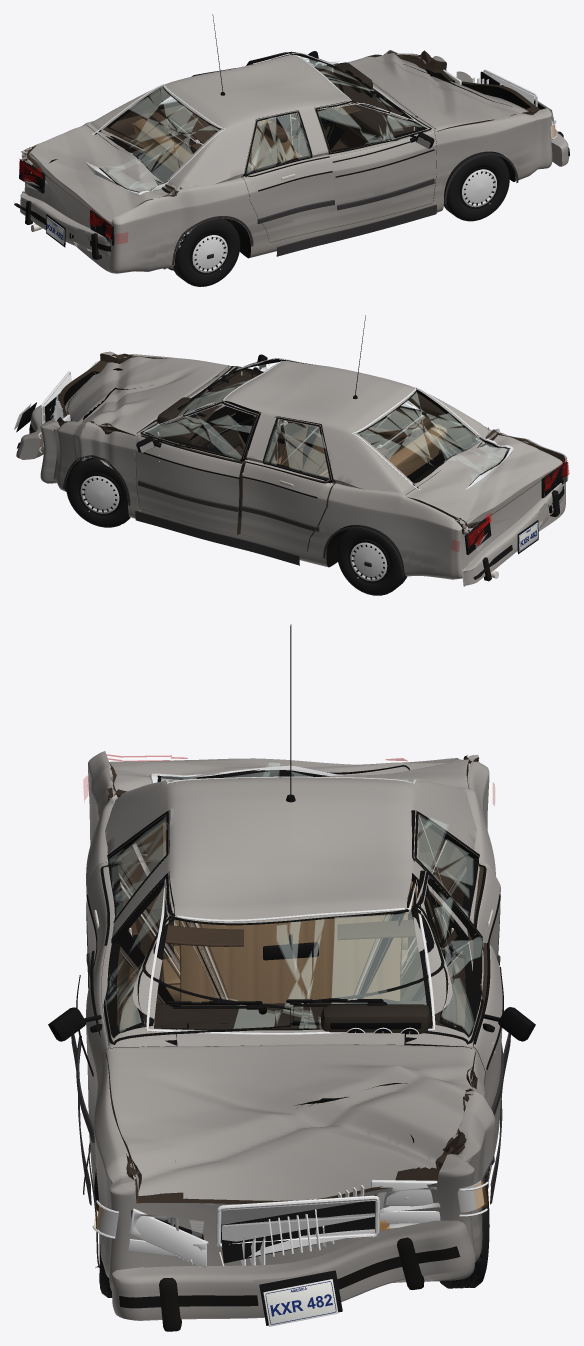
The model's file is sedan87_front_corner_d1.glb.
The picture shows the model from 3 angles, top to bottom: view 1: azimuth 30°, elevation 25°; view 2: azimuth 150°, elevation 25°; view 3: azimuth 270°, elevation 25°; orthographic projection. The views are drawn at different scales.
Parts seen in each view (by area): view 1: Body, Door_FR, Interior, Trunk, Hood, Glass, Door_RR, Wheel_FR_mesh, Wheel_RR_mesh, Trim, Ends, Glass_RR (+7 smaller); view 2: Body, Door_FL, Hood, Trunk, Interior, Door_RL, Glass, Wheel_RL_mesh, Wheel_FL_mesh, Trim, Ends, Bumper_R (+10 smaller); view 3: Body, Hood, Interior, Ends, Bumper_F, Glass, Door_FL, Door_FR, Trunk, Trim_FR, Door_RL, Trim_FL (+9 smaller).
Boxes of the visible parts, x1=… form: Body: x1=21, y1=50, x2=552, y2=273; Door_FR: x1=314, y1=101, x2=436, y2=227; Interior: x1=133, y1=62, x2=417, y2=172; Trunk: x1=26, y1=125, x2=170, y2=224; Hood: x1=346, y1=53, x2=528, y2=131; Glass: x1=85, y1=52, x2=415, y2=195; Door_RR: x1=241, y1=110, x2=335, y2=242; Wheel_FR_mesh: x1=443, y1=151, x2=509, y2=221; Wheel_RR_mesh: x1=173, y1=218, x2=240, y2=286; Trim: x1=172, y1=14, x2=518, y2=265; Ends: x1=19, y1=69, x2=557, y2=247; Glass_RR: x1=246, y1=112, x2=310, y2=173; Body: x1=40, y1=351, x2=566, y2=579; Door_FL: x1=135, y1=402, x2=260, y2=535; Hood: x1=65, y1=357, x2=228, y2=435; Trunk: x1=405, y1=432, x2=562, y2=526; Interior: x1=155, y1=373, x2=447, y2=477; Door_RL: x1=240, y1=416, x2=335, y2=551; Glass: x1=156, y1=358, x2=513, y2=489; Wheel_RL_mesh: x1=337, y1=525, x2=407, y2=595; Wheel_FL_mesh: x1=66, y1=458, x2=130, y2=527; Trim: x1=63, y1=315, x2=404, y2=577; Ends: x1=14, y1=361, x2=567, y2=554; Bumper_R: x1=462, y1=483, x2=564, y2=586; Body: x1=86, y1=751, x2=495, y2=1290; Hood: x1=105, y1=1044, x2=475, y2=1200; Interior: x1=135, y1=821, x2=446, y2=1046; Ends: x1=92, y1=1179, x2=488, y2=1326; Bumper_F: x1=111, y1=1220, x2=475, y2=1331; Glass: x1=146, y1=762, x2=435, y2=1034; Door_FL: x1=405, y1=870, x2=502, y2=1178; Door_FR: x1=86, y1=872, x2=176, y2=1178; Trunk: x1=109, y1=755, x2=468, y2=791; Trim_FR: x1=48, y1=873, x2=290, y2=1142; Door_RL: x1=411, y1=810, x2=500, y2=1027; Trim_FL: x1=292, y1=871, x2=535, y2=1115.
Bounding box in the file's own units: 4.89 × 2.14 × 2.09.
Materials: 33 (5 with a texture image).
